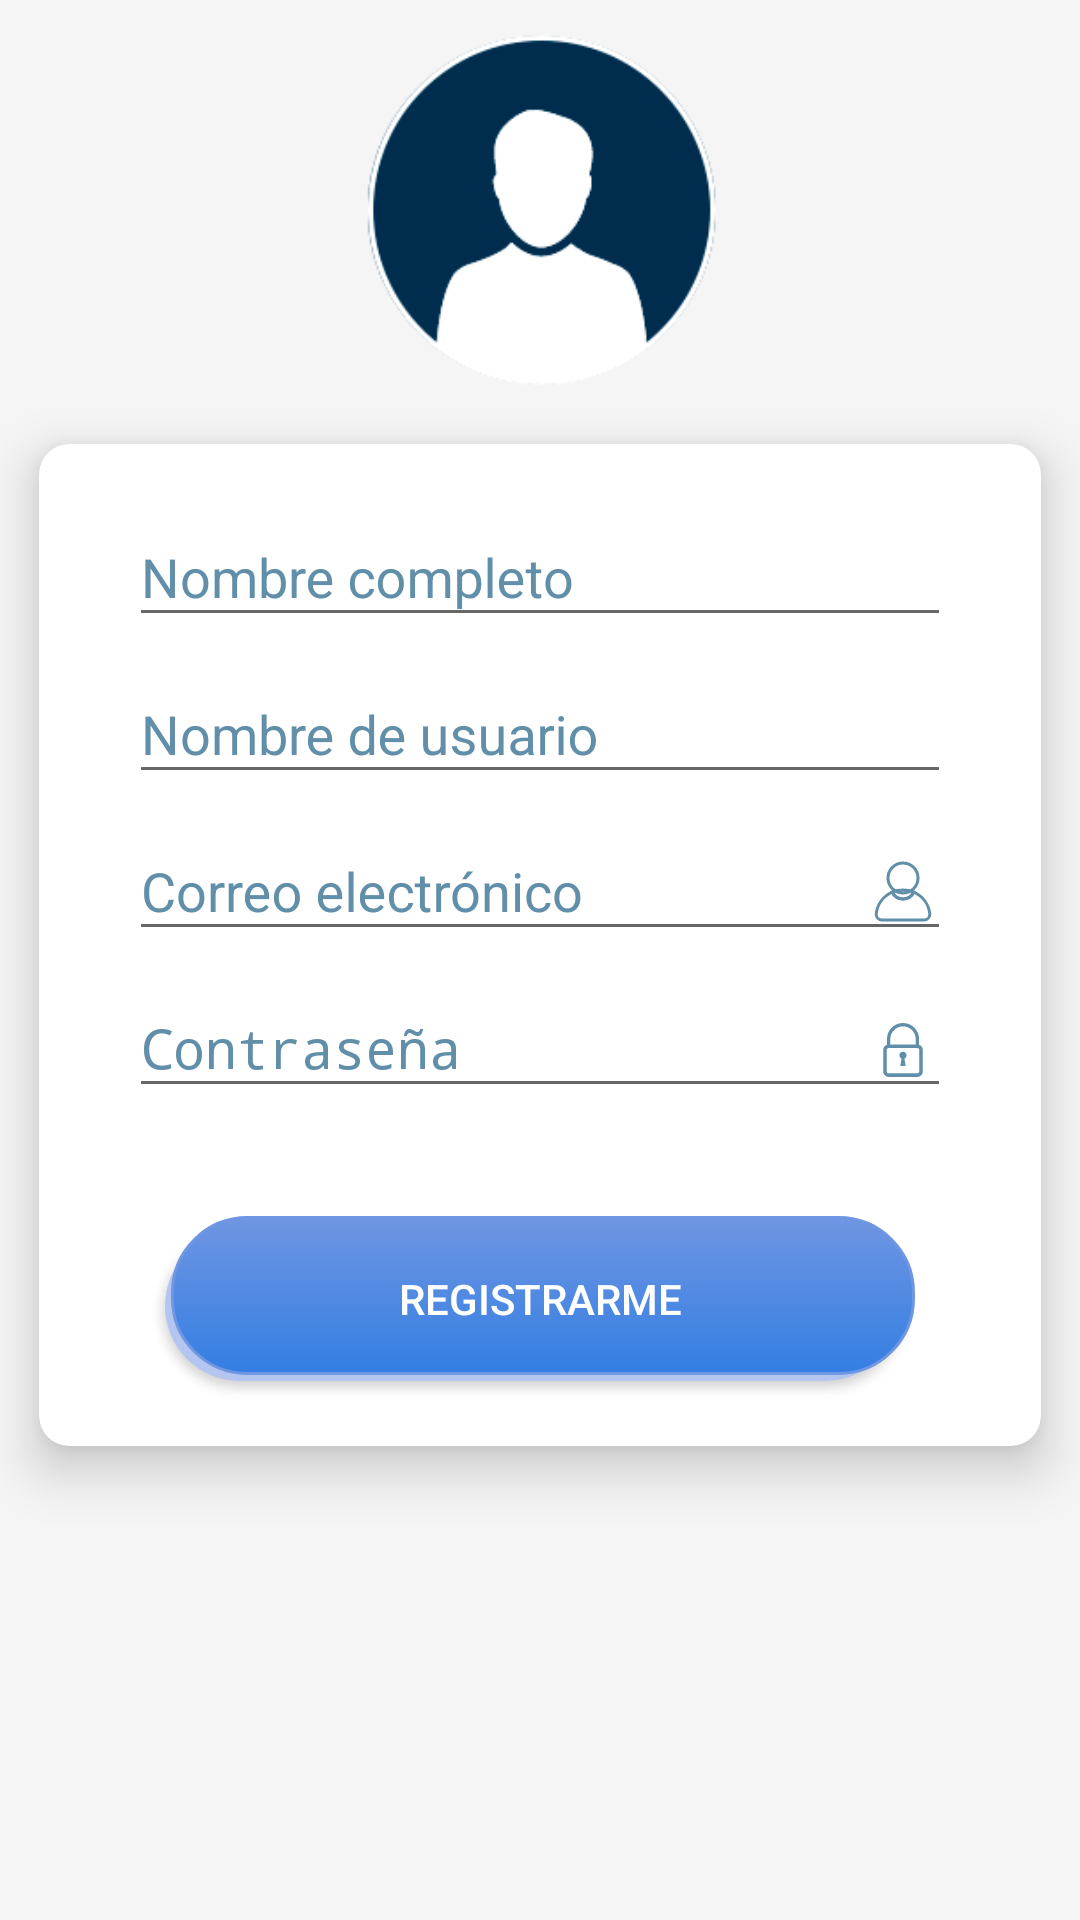

Locate icon controls on the screen. Image size 1080x1920, boxes as box(x1, y1, x2, y2).
profile: box(368, 40, 716, 343)
